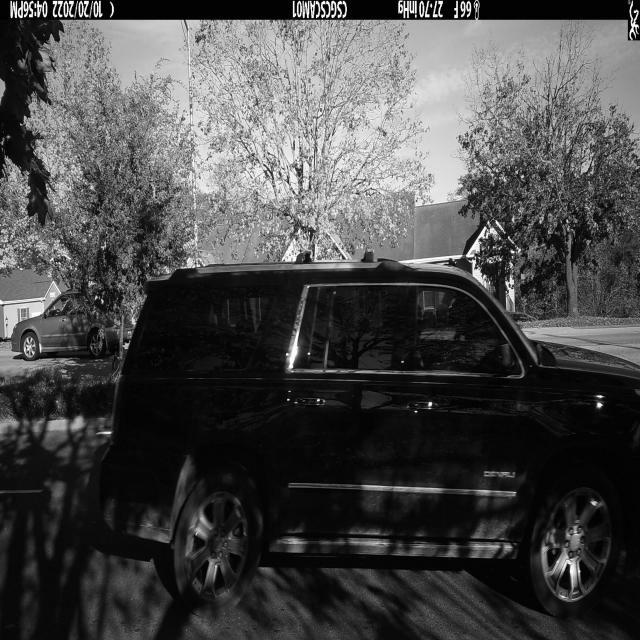SUV: (97, 261, 640, 620)
